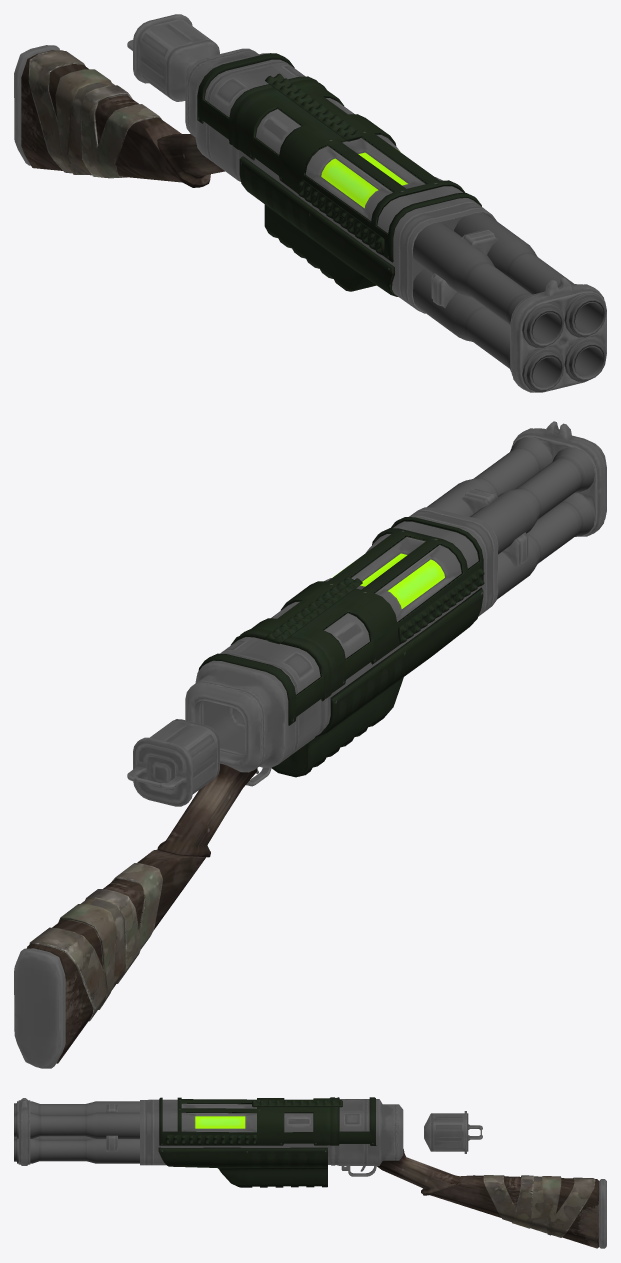
The model's file is quadplasma.glb.
3 renders of one model, top to bottom at view 1: azimuth 30°, elevation 25°; view 2: azimuth 150°, elevation 25°; view 3: azimuth 270°, elevation 25°, orthographic. The views are drawn at different scales.
Parts seen in each view (by area): view 1: kurok_low_base_0, pikotini1_low_plastic_0, stvol_low_stvol_0, obvazka_low_scotch_0, pliklad_low_priclad_0, ruchka_low_ruchka_0, base_low_plasma_0; view 2: kurok_low_base_0, pikotini1_low_plastic_0, stvol_low_stvol_0, obvazka_low_scotch_0, pliklad_low_priclad_0, ruchka_low_ruchka_0, base_low_plasma_0; view 3: pikotini1_low_plastic_0, kurok_low_base_0, stvol_low_stvol_0, obvazka_low_scotch_0, pliklad_low_priclad_0, ruchka_low_ruchka_0, base_low_plasma_0.
Boxes of the visible parts, x1=… form: kurok_low_base_0: x1=14, y1=14, x2=606, y2=392; pikotini1_low_plastic_0: x1=197, y1=53, x2=481, y2=296; stvol_low_stvol_0: x1=413, y1=213, x2=606, y2=392; obvazka_low_scotch_0: x1=28, y1=50, x2=161, y2=178; pliklad_low_priclad_0: x1=21, y1=50, x2=182, y2=182; ruchka_low_ruchka_0: x1=157, y1=134, x2=224, y2=187; base_low_plasma_0: x1=321, y1=150, x2=407, y2=208; kurok_low_base_0: x1=14, y1=421, x2=606, y2=1068; pikotini1_low_plastic_0: x1=198, y1=517, x2=484, y2=777; stvol_low_stvol_0: x1=427, y1=437, x2=606, y2=599; obvazka_low_scotch_0: x1=29, y1=863, x2=162, y2=1021; pliklad_low_priclad_0: x1=26, y1=849, x2=205, y2=1063; ruchka_low_ruchka_0: x1=157, y1=763, x2=257, y2=857; base_low_plasma_0: x1=332, y1=553, x2=444, y2=608; pikotini1_low_plastic_0: x1=158, y1=1097, x2=376, y2=1187; kurok_low_base_0: x1=18, y1=1098, x2=606, y2=1248; stvol_low_stvol_0: x1=14, y1=1101, x2=139, y2=1163; obvazka_low_scotch_0: x1=483, y1=1175, x2=595, y2=1237; pliklad_low_priclad_0: x1=430, y1=1175, x2=598, y2=1248; ruchka_low_ruchka_0: x1=377, y1=1149, x2=459, y2=1195; base_low_plasma_0: x1=195, y1=1116, x2=245, y2=1128.
Bounding box in the file's own units: 20.23 × 47.81 × 175.
Materials: 7 (7 with a texture image).
